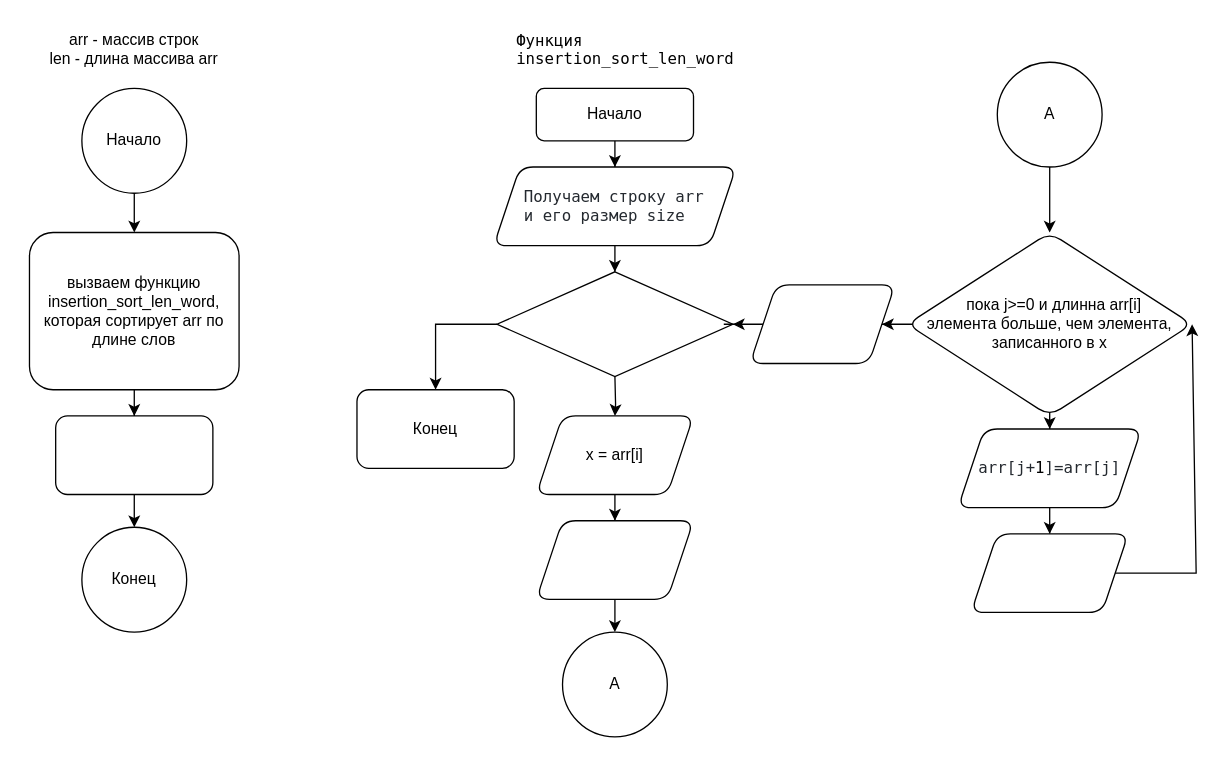
Image size: 1230x760. Some labels were removed from this diagram. The centre of each missing label's shape, as x and y in pixels:
arr[j+ 1 ]=x: the point at 822,324
j = i - 1: the point at 614,559
j = j -1: the point at 1049,572
выводим полученную строку: the point at 133,455
от i до size, шаг 1: the point at 614,324
